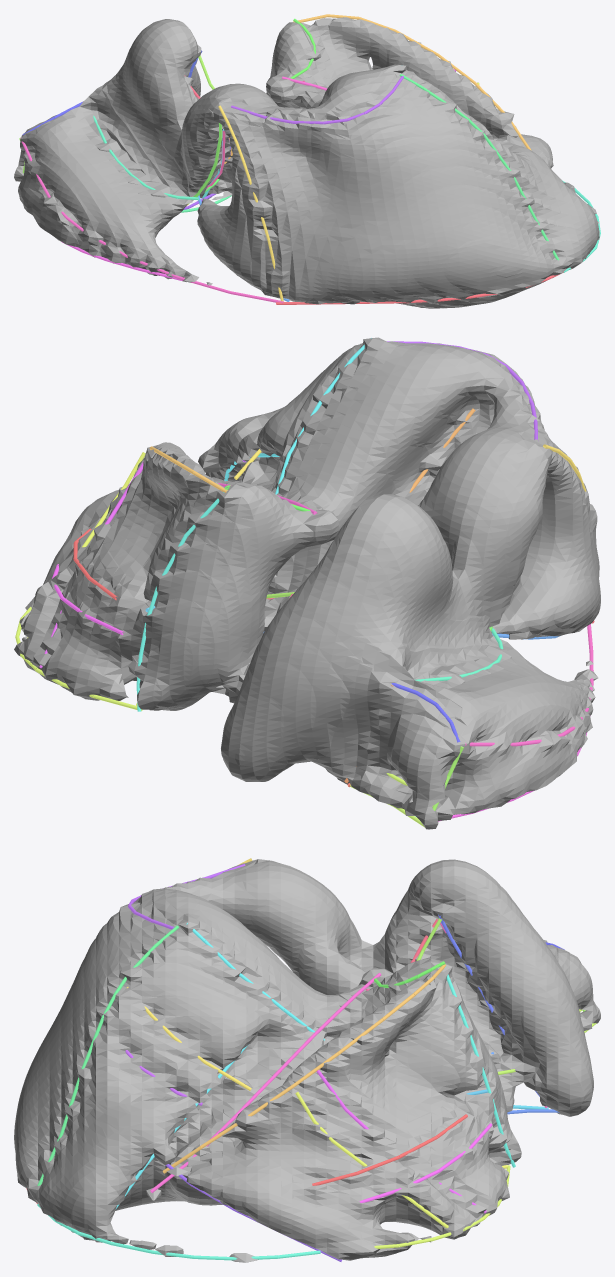
File: author1_building.gltf
3 views of the same model, one above another, from view 1: azimuth 30°, elevation 25°; view 2: azimuth 150°, elevation 25°; view 3: azimuth 270°, elevation 25° (orthographic). The views are drawn at different scales.
Size of the model in its own units: 0.7071 by 0.3241 by 0.6752.
